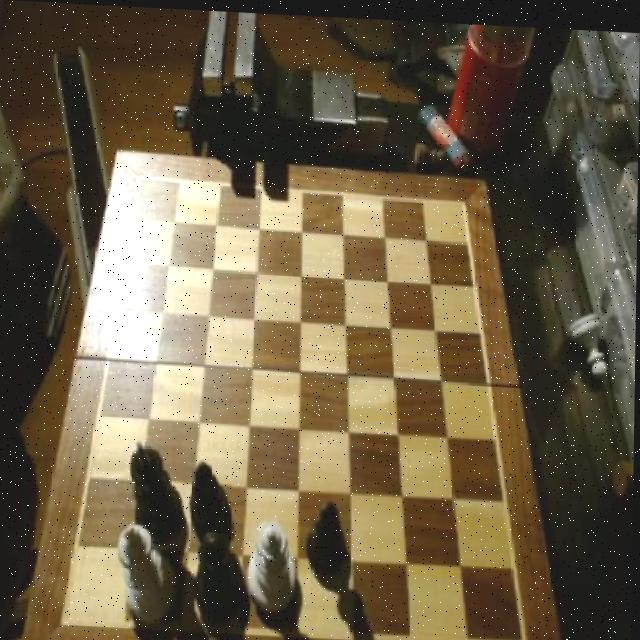bishop: (187, 462, 233, 548), (303, 497, 350, 572)
black-bishop: (129, 437, 186, 555)
black-pawn: (196, 527, 243, 626)
white-bishop: (113, 520, 179, 628)
white-pawn: (247, 516, 295, 609)
